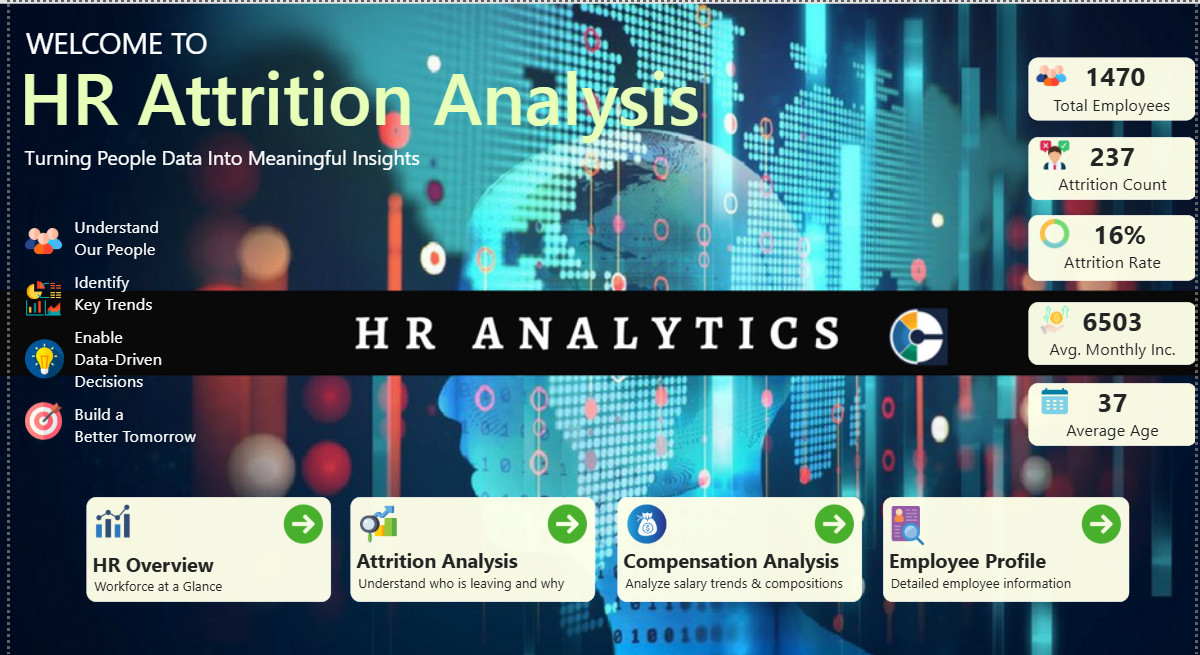

What the dashboard file says about the page in this screenshot:
{"tool":"powerbi","page":{"name":"Home","canvas":[1920,1080],"ordinal":0},"visuals":[{"type":"textbox","box":[1650.1,90.2,270.4,102],"z":0,"group":"g9"},{"type":"group","id":"g1","title":"Group 4","box":[24.3,344.9,286.6,388.6],"z":0},{"type":"textbox","box":[103.4,344.9,207.5,388.6],"z":0,"group":"g1"},{"type":"textbox","box":[123.9,801.5,395.8,170],"z":0,"group":"g2"},{"type":"textbox","box":[14.6,71.3,1355.3,229.9],"z":1000,"group":"g8"},{"type":"image","box":[24.3,346.4,60.2,79.3],"z":1000,"group":"g1"},{"type":"textbox","box":[1649.2,485.8,272.8,102],"z":1000,"group":"g12"},{"type":"group","id":"g2","title":"Group 1","box":[123.9,801.5,1688,170],"z":1000},{"type":"textbox","box":[984.5,801.5,395.8,170],"z":1000,"group":"g2"},{"type":"textbox","box":[13.2,30.9,530.3,70],"z":2000,"group":"g8"},{"type":"textbox","box":[1649.2,218.6,272.8,102],"z":2000,"group":"g10"},{"type":"textbox","box":[1649.2,344.9,272.8,106.9],"z":2000,"group":"g11"},{"type":"image","box":[24.3,438.9,60.2,79.3],"z":2000,"group":"g1"},{"type":"textbox","box":[1649.2,616.9,272.8,102],"z":2000,"group":"g13"},{"type":"textbox","box":[550.4,801.5,395.8,170],"z":2000,"group":"g2"},{"type":"image","box":[24.3,536.8,63.6,82],"z":3000,"group":"g1"},{"type":"textbox","box":[1413.6,801.5,398.4,170],"z":3000,"group":"g2"},{"type":"group","id":"g3","title":"Group 9","box":[1649.2,616.9,272,102],"z":4000},{"type":"image","box":[24.3,639.9,60.2,79.3],"z":4000,"group":"g1"},{"type":"image","box":[134.1,808.8,66.4,63.1],"z":4000,"group":"g2"},{"type":"group","id":"g4","title":"Group 10","box":[1649.2,485.8,272,102],"z":5000},{"type":"image","box":[1421.2,816.1,66.4,63.1],"z":5000,"group":"g2"},{"type":"group","id":"g5","title":"Group 11","box":[1650.1,90.2,269.6,102],"z":6000},{"type":"image","box":[1650.1,95.1,74.3,48.6],"z":6000,"group":"g9"},{"type":"image","box":[997.3,813.6,66.4,63.1],"z":6000,"group":"g2"},{"type":"group","id":"g6","title":"Group 9","box":[1649.2,218.6,272,102],"z":7000},{"type":"image","box":[1655.2,490.7,75,48.6],"z":7000,"group":"g12"},{"type":"image","box":[563.1,813.6,66.4,63.1],"z":7000,"group":"g2"},{"type":"image","box":[1655.2,223.5,75,48.6],"z":8000,"group":"g10"},{"type":"group","id":"g7","title":"Group 9","box":[1649.2,344.9,272,106.9],"z":8000},{"type":"image","box":[1655.2,350,75,50.9],"z":8000,"group":"g11"},{"type":"image","box":[1655.2,621.8,75,48.6],"z":8000,"group":"g13"},{"type":"image","box":[443.1,813.6,66.4,63.1],"z":8000,"group":"g2"},{"type":"group","id":"g8","title":"Group 3","box":[13.2,30.9,1356.7,270.3],"z":8001},{"type":"group","id":"g9","title":"Group 8","box":[1650.1,90.2,269.6,102],"z":8001,"group":"g5"},{"type":"group","id":"g10","title":"Group 7","box":[1649.2,218.6,272,102],"z":8001,"group":"g6"},{"type":"group","id":"g11","title":"Group 6","box":[1649.2,344.9,272,106.9],"z":8001,"group":"g7"},{"type":"group","id":"g12","title":"Group 5","box":[1649.2,485.8,272.8,102],"z":8001,"group":"g4"},{"type":"group","id":"g13","title":"Group 2","box":[1649.2,616.9,272,102],"z":8001,"group":"g3"},{"type":"image","box":[869.6,813.6,66.4,63.1],"z":9000,"group":"g2"},{"type":"image","box":[1301.2,813.6,66.4,63.1],"z":10000,"group":"g2"},{"type":"image","box":[1735.3,813.6,66.4,63.1],"z":11000,"group":"g2"}]}

Visuals, with their boxes on the page's 1920x1080 design canvas (x1, y1, x2, y2). These are canvas units, not pixel positions in the 1200x655 screenshot, which may show the page scaled, cropped or inside an application window:
textbox: [left=1650, top=90, right=1920, bottom=192]
"Group 4" group: [left=24, top=345, right=311, bottom=734]
textbox: [left=103, top=345, right=311, bottom=734]
textbox: [left=124, top=802, right=520, bottom=972]
textbox: [left=15, top=71, right=1370, bottom=301]
image: [left=24, top=346, right=84, bottom=426]
textbox: [left=1649, top=486, right=1922, bottom=588]
"Group 1" group: [left=124, top=802, right=1812, bottom=972]
textbox: [left=984, top=802, right=1380, bottom=972]
textbox: [left=13, top=31, right=544, bottom=101]
textbox: [left=1649, top=219, right=1922, bottom=321]
textbox: [left=1649, top=345, right=1922, bottom=452]
image: [left=24, top=439, right=84, bottom=518]
textbox: [left=1649, top=617, right=1922, bottom=719]
textbox: [left=550, top=802, right=946, bottom=972]
image: [left=24, top=537, right=88, bottom=619]
textbox: [left=1414, top=802, right=1812, bottom=972]
"Group 9" group: [left=1649, top=617, right=1921, bottom=719]
image: [left=24, top=640, right=84, bottom=719]
image: [left=134, top=809, right=200, bottom=872]
"Group 10" group: [left=1649, top=486, right=1921, bottom=588]
image: [left=1421, top=816, right=1488, bottom=879]
"Group 11" group: [left=1650, top=90, right=1920, bottom=192]
image: [left=1650, top=95, right=1724, bottom=144]
image: [left=997, top=814, right=1064, bottom=877]
"Group 9" group: [left=1649, top=219, right=1921, bottom=321]
image: [left=1655, top=491, right=1730, bottom=539]
image: [left=563, top=814, right=630, bottom=877]
image: [left=1655, top=224, right=1730, bottom=272]
"Group 9" group: [left=1649, top=345, right=1921, bottom=452]
image: [left=1655, top=350, right=1730, bottom=401]
image: [left=1655, top=622, right=1730, bottom=670]
image: [left=443, top=814, right=510, bottom=877]
"Group 3" group: [left=13, top=31, right=1370, bottom=301]
"Group 8" group: [left=1650, top=90, right=1920, bottom=192]
"Group 7" group: [left=1649, top=219, right=1921, bottom=321]
"Group 6" group: [left=1649, top=345, right=1921, bottom=452]
"Group 5" group: [left=1649, top=486, right=1922, bottom=588]
"Group 2" group: [left=1649, top=617, right=1921, bottom=719]
image: [left=870, top=814, right=936, bottom=877]
image: [left=1301, top=814, right=1368, bottom=877]
image: [left=1735, top=814, right=1802, bottom=877]
